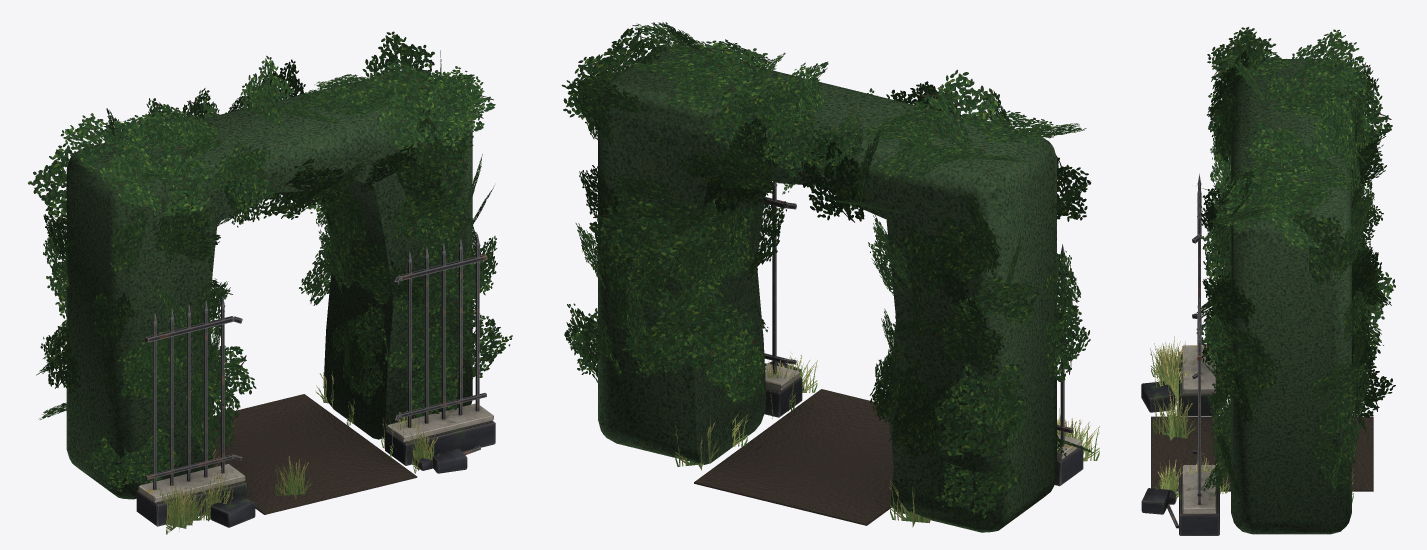
Rendered from SneakHedgeGap.fbx.
3 renders of one model, left to right at view 1: azimuth 30°, elevation 25°; view 2: azimuth 150°, elevation 25°; view 3: azimuth 270°, elevation 25°, orthographic. The views are drawn at different scales.
Parts seen in each view (by area): view 1: SneakHedgeGap_Main, SneakHedgeGap_Leaves; view 2: SneakHedgeGap_Leaves, SneakHedgeGap_Main; view 3: SneakHedgeGap_Leaves, SneakHedgeGap_Main.
Part boxes in pixels (x1=…): SneakHedgeGap_Main: x1=66, y1=70, x2=495, y2=527; SneakHedgeGap_Leaves: x1=28, y1=31, x2=512, y2=534; SneakHedgeGap_Leaves: x1=561, y1=22, x2=1099, y2=527; SneakHedgeGap_Main: x1=598, y1=46, x2=1083, y2=532; SneakHedgeGap_Leaves: x1=1150, y1=27, x2=1395, y2=507; SneakHedgeGap_Main: x1=1141, y1=59, x2=1373, y2=535.
Bounding box in the file's own units: 1057 × 831 × 561.
